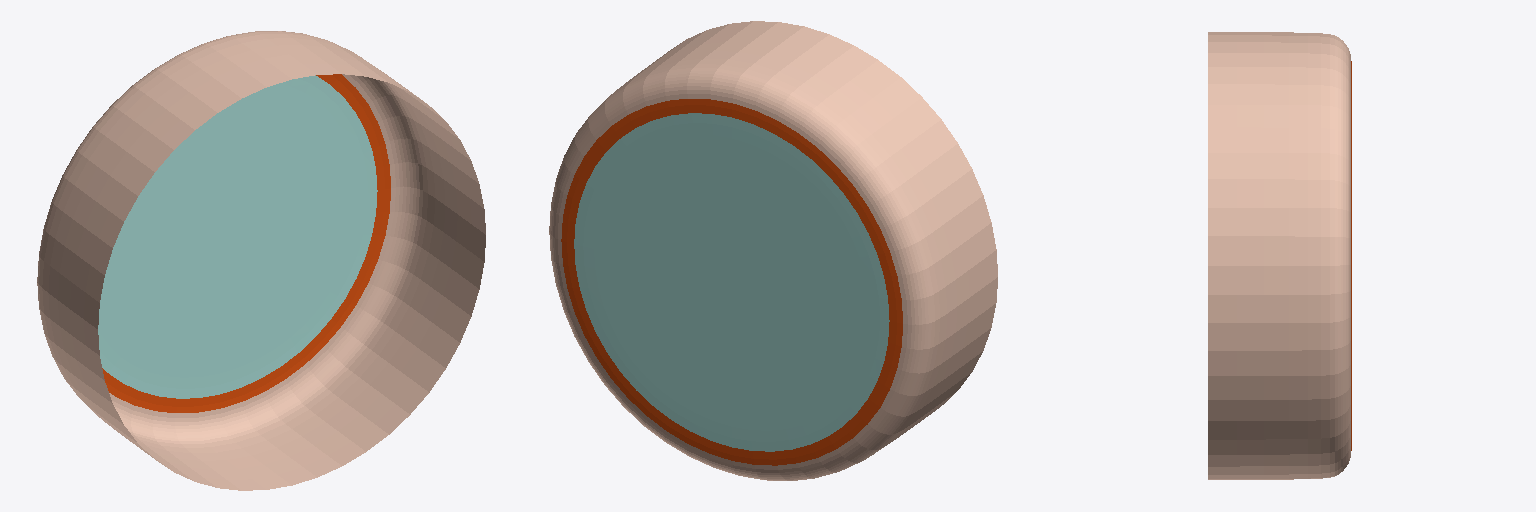
The picture shows the model from 3 angles: view 1: azimuth 30°, elevation 25°; view 2: azimuth 150°, elevation 25°; view 3: azimuth 270°, elevation 25°; orthographic projection.
Parts seen in each view (by area): view 1: Cylinder_Mesh.003; view 2: Cylinder_Mesh.003; view 3: Cylinder_Mesh.003.
Boxes of the visible parts, x1=… form: Cylinder_Mesh.003: x1=37, y1=31, x2=485, y2=490; Cylinder_Mesh.003: x1=549, y1=21, x2=997, y2=480; Cylinder_Mesh.003: x1=1208, y1=32, x2=1351, y2=479.
Bounding box in the file's own units: 14.83 × 14.83 × 4.8.
Materials: 1 (1 with a texture image).